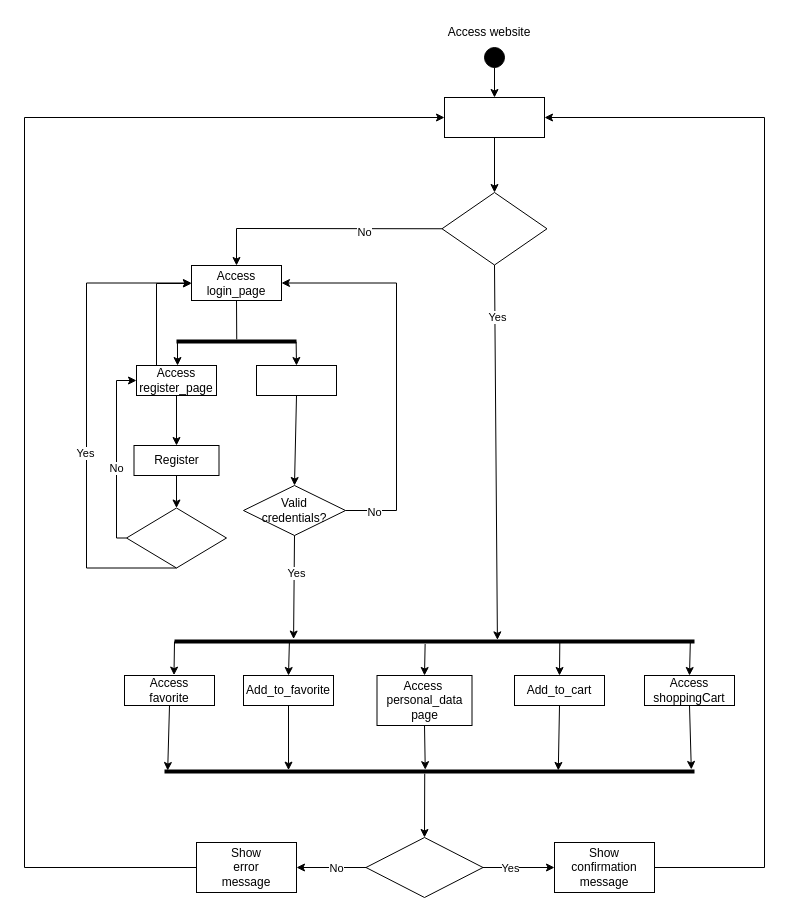
Some shapes in this 790 by 915 pixel diagram are drawn without their labels. Each missing label, with the centre of its shape:
"Authenticated?" belongs at pixel 494 228.
"Filter_products" belongs at pixel 494 117.
"Login" belongs at pixel 296 380.
"Valid registration?" belongs at pixel 176 537.
"Valid Request" belongs at pixel 424 867.
